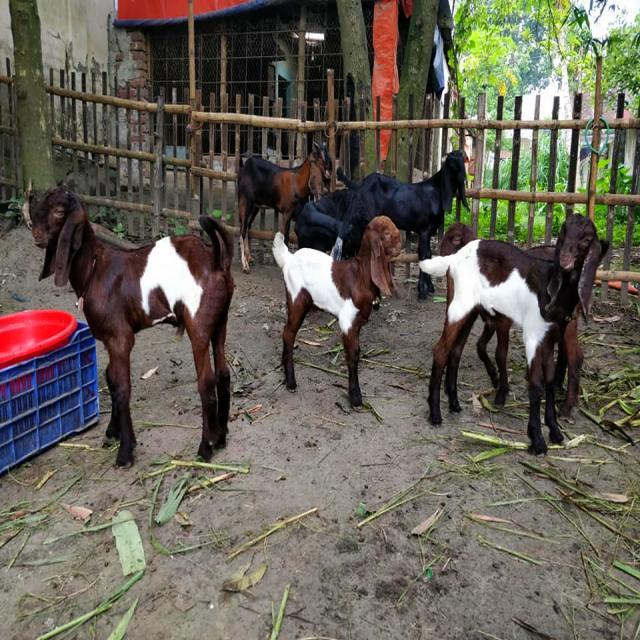Goat: (26, 181, 235, 469), (417, 217, 607, 455), (295, 149, 471, 303), (271, 213, 402, 408), (236, 140, 333, 274)
